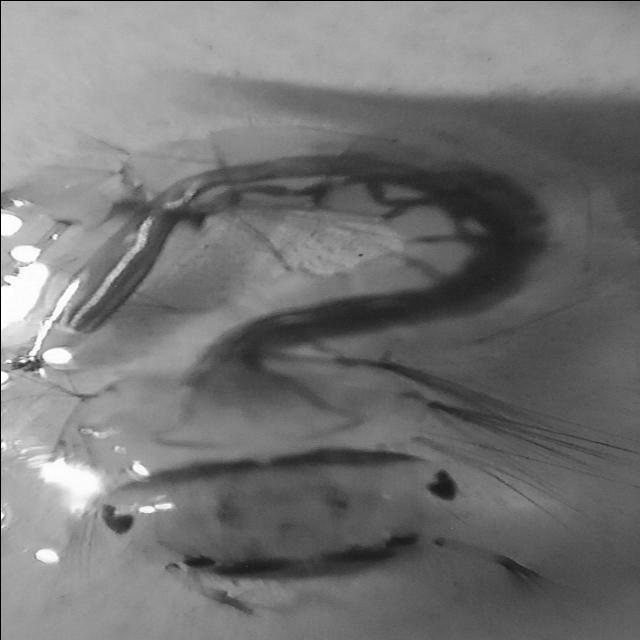larvas: (32, 125, 570, 618)
